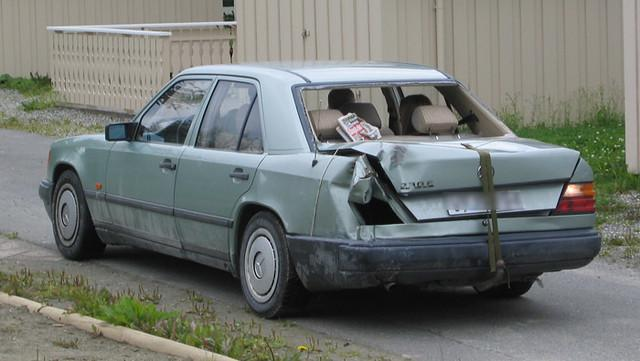Rear-windscreen-Damage: (297, 73, 498, 160)
boot-dent: (360, 141, 560, 234)
rear-bumper-dent: (300, 227, 602, 291)
